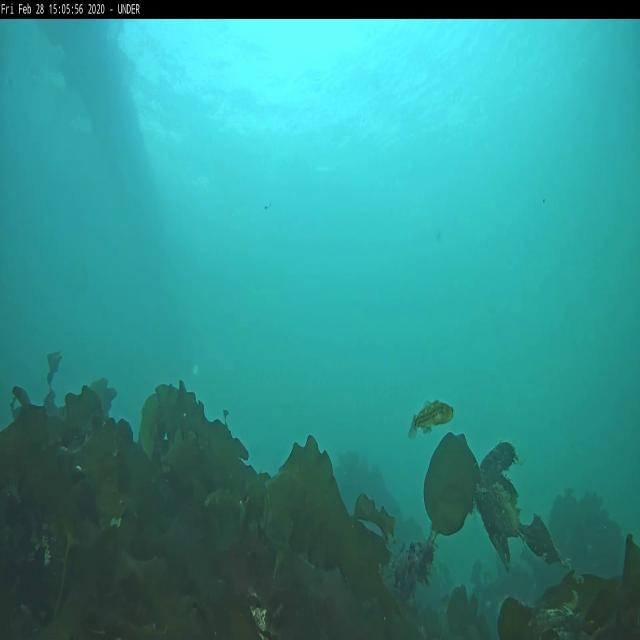fish: (406, 401, 452, 434)
